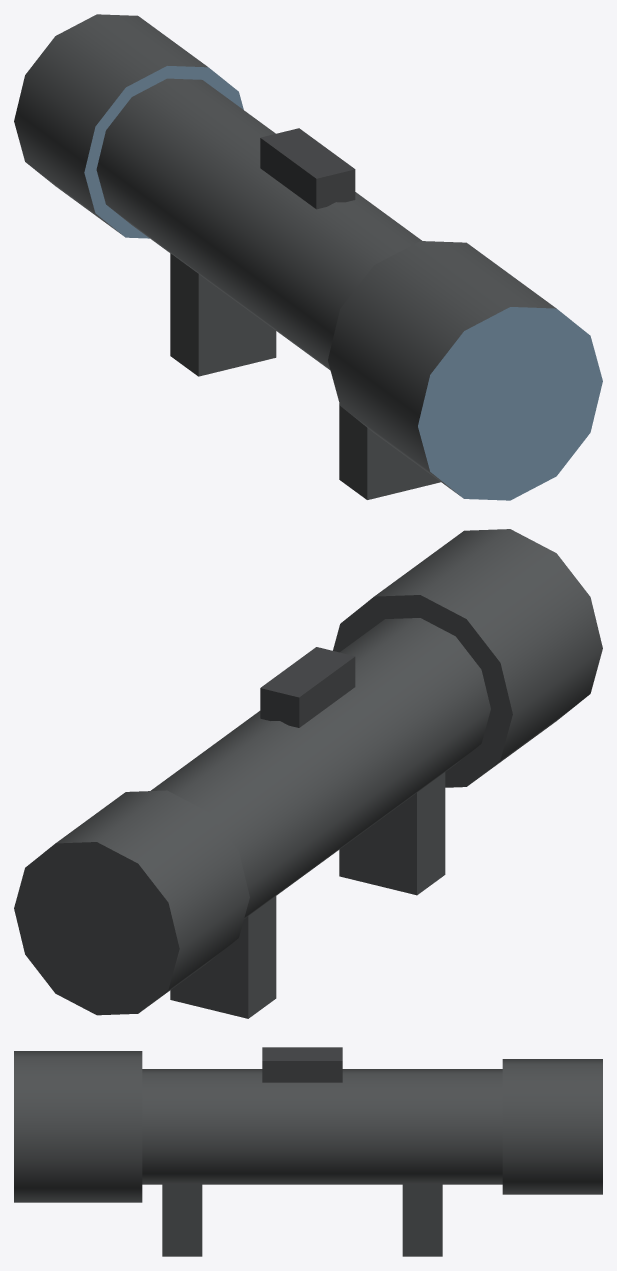
The model's file is scope_2x.glb.
The picture shows the model from 3 angles, top to bottom: view 1: azimuth 30°, elevation 25°; view 2: azimuth 150°, elevation 25°; view 3: azimuth 270°, elevation 25°; orthographic projection. The views are drawn at different scales.
Visible parts, largest first — view 1: scope_2x; view 2: scope_2x; view 3: scope_2x.
Boxes of the visible parts, x1=… form: scope_2x: x1=14, y1=14, x2=602, y2=500; scope_2x: x1=14, y1=529, x2=602, y2=1018; scope_2x: x1=14, y1=1047, x2=602, y2=1256.
Bounding box in the file's own units: 0.038 × 0.052 × 0.147.
